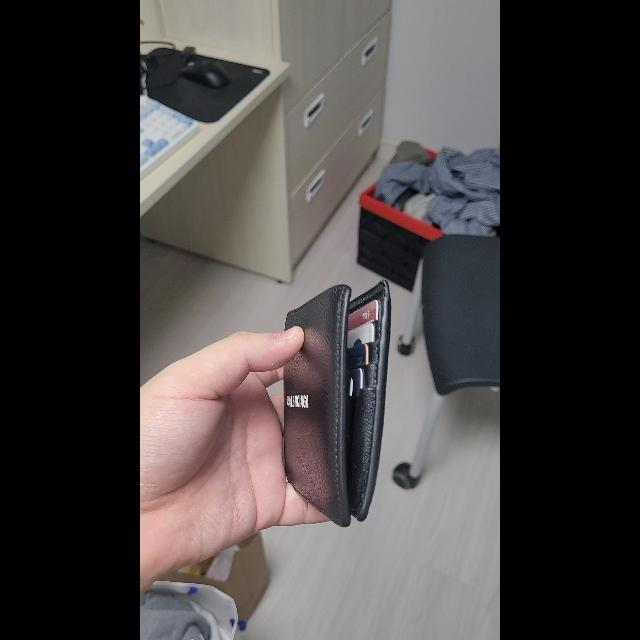WALLET: (283, 280, 392, 528)
